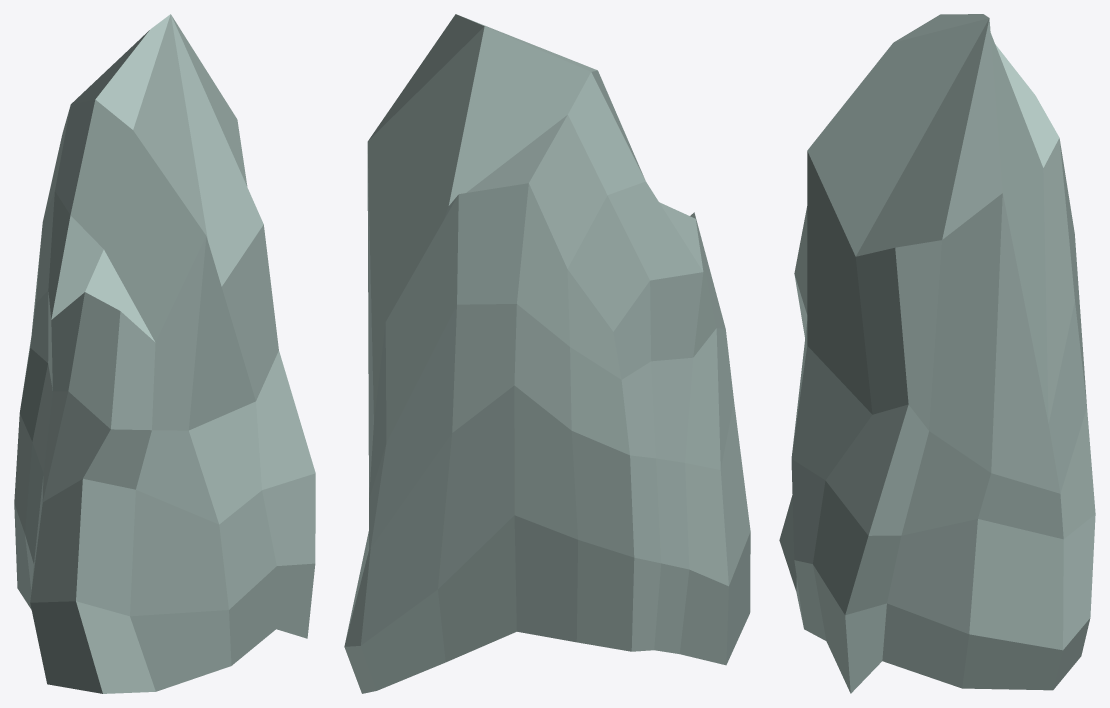
File: Rock2.fbx
3 renders of one model, left to right at view 1: azimuth 30°, elevation 25°; view 2: azimuth 150°, elevation 25°; view 3: azimuth 270°, elevation 25°, orthographic. The views are drawn at different scales.
Parts seen in each view (by area): view 1: Cube.017_Cube.027; view 2: Cube.017_Cube.027; view 3: Cube.017_Cube.027.
Part boxes in pixels (box(x1,y1,x2,y2)): Cube.017_Cube.027: box(14, 14, 315, 693); Cube.017_Cube.027: box(344, 14, 750, 693); Cube.017_Cube.027: box(779, 14, 1095, 693).
Bounding box in the file's own units: 1068 × 2179 × 970.
